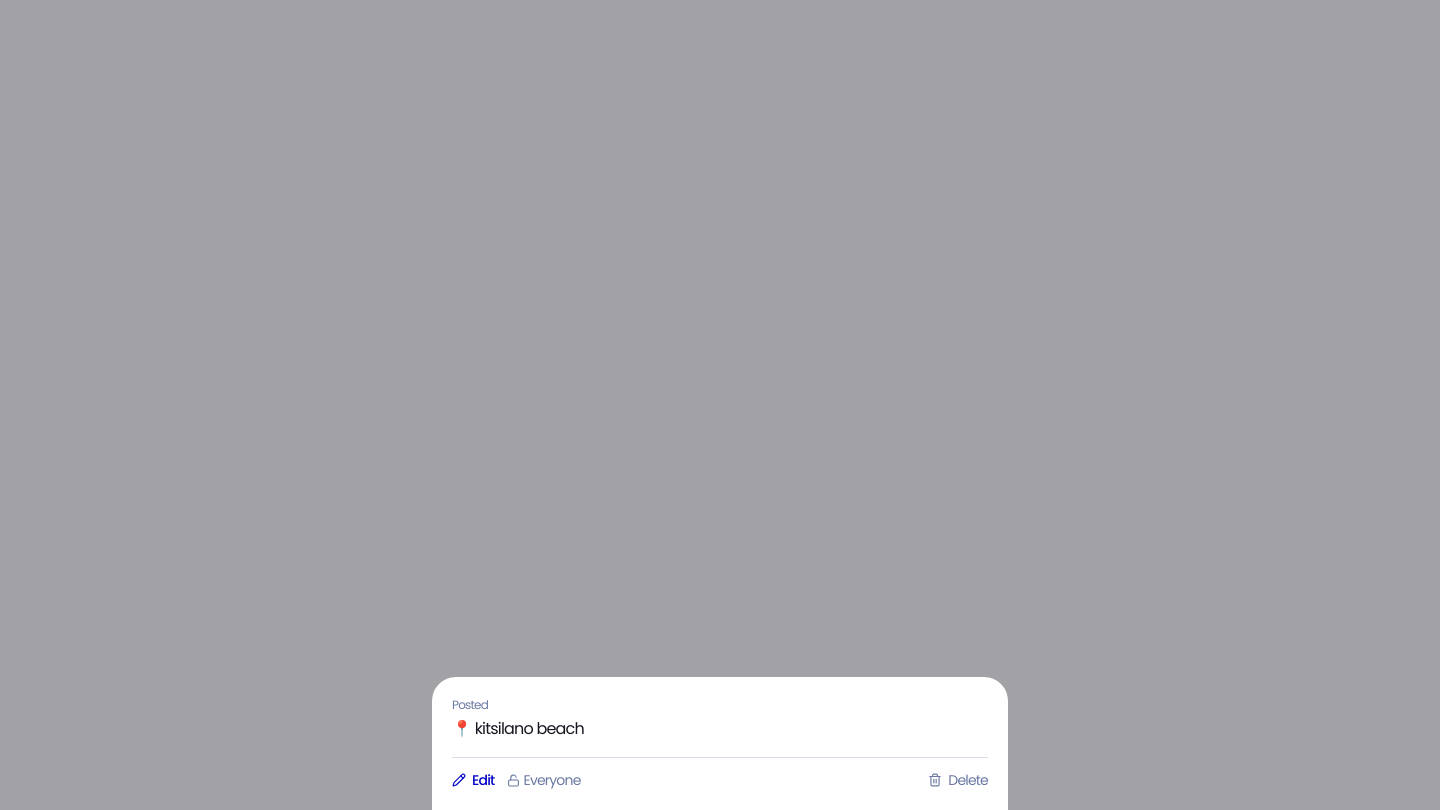
Test: what is not here › confirms a delete as one record, nothing inside it
Click the button "Delete".
click(958, 780)  # box [928, 770, 988, 790]
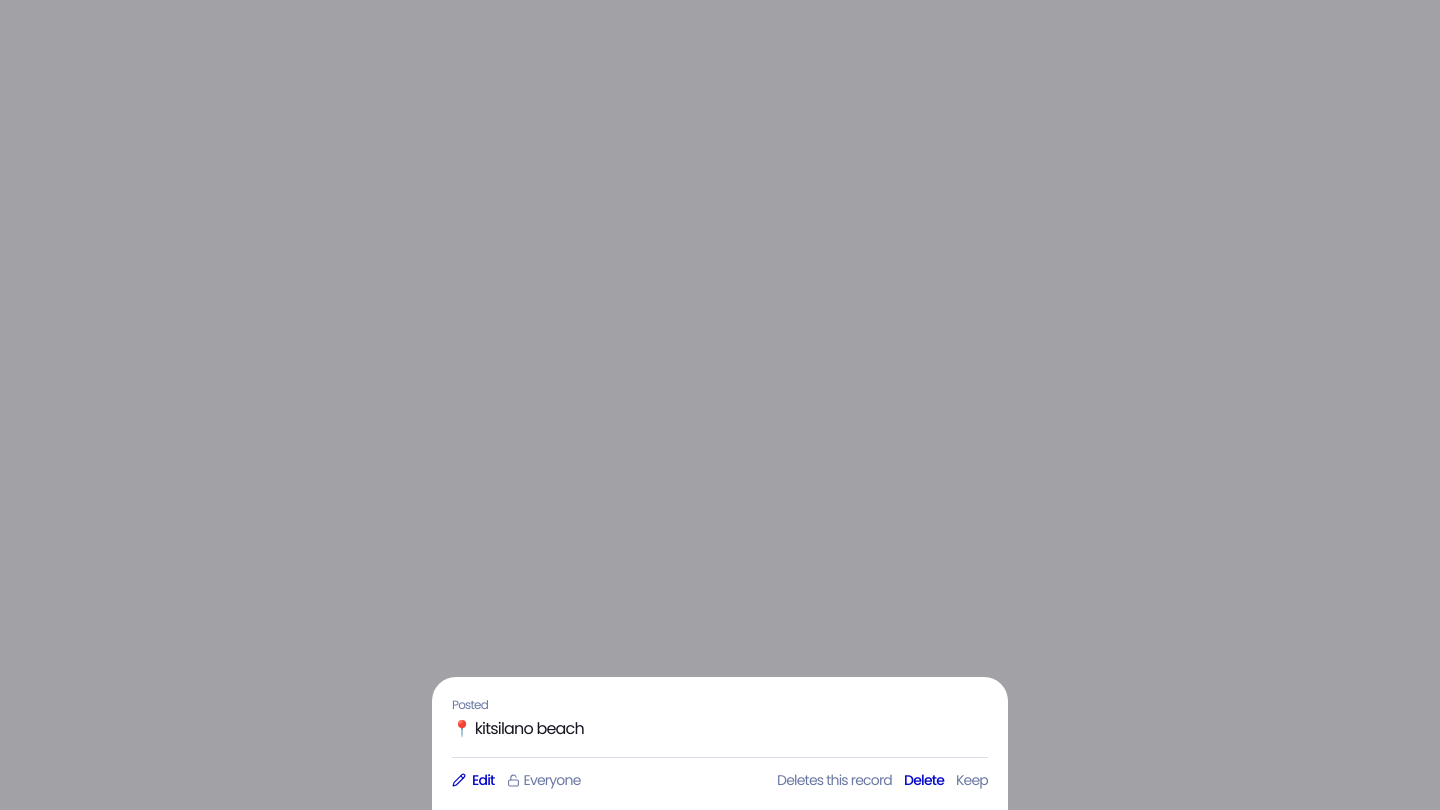
Now the text "Deletes this record" is shown, box [777, 770, 892, 790]
